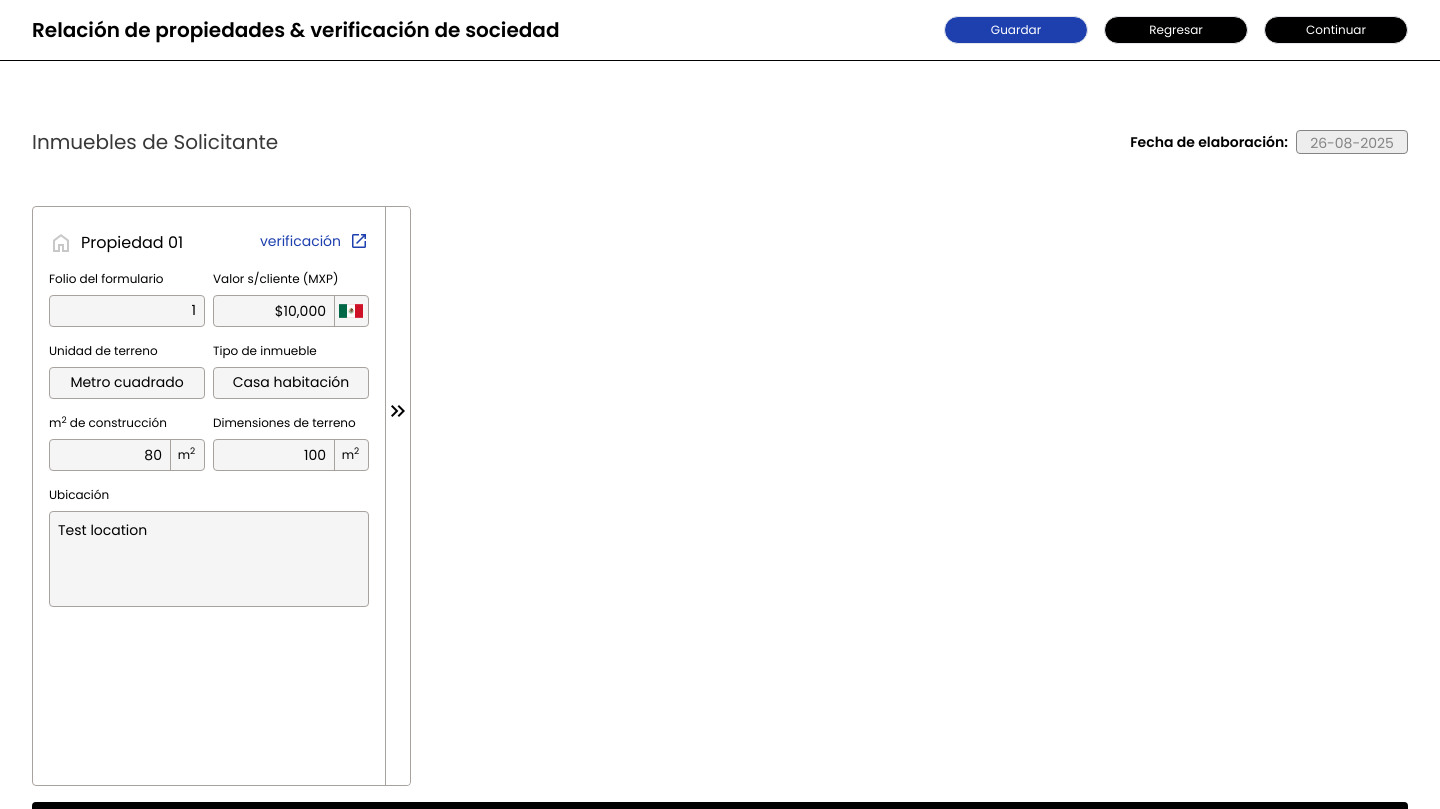
PropertyVerification › Profile Líder de Contraparte › it should hide the additional fields when clicking the shrink button
Click the 3rd icon "keyboard_double_arrow_right". click: [398, 411]
box: [386,399,410,423]
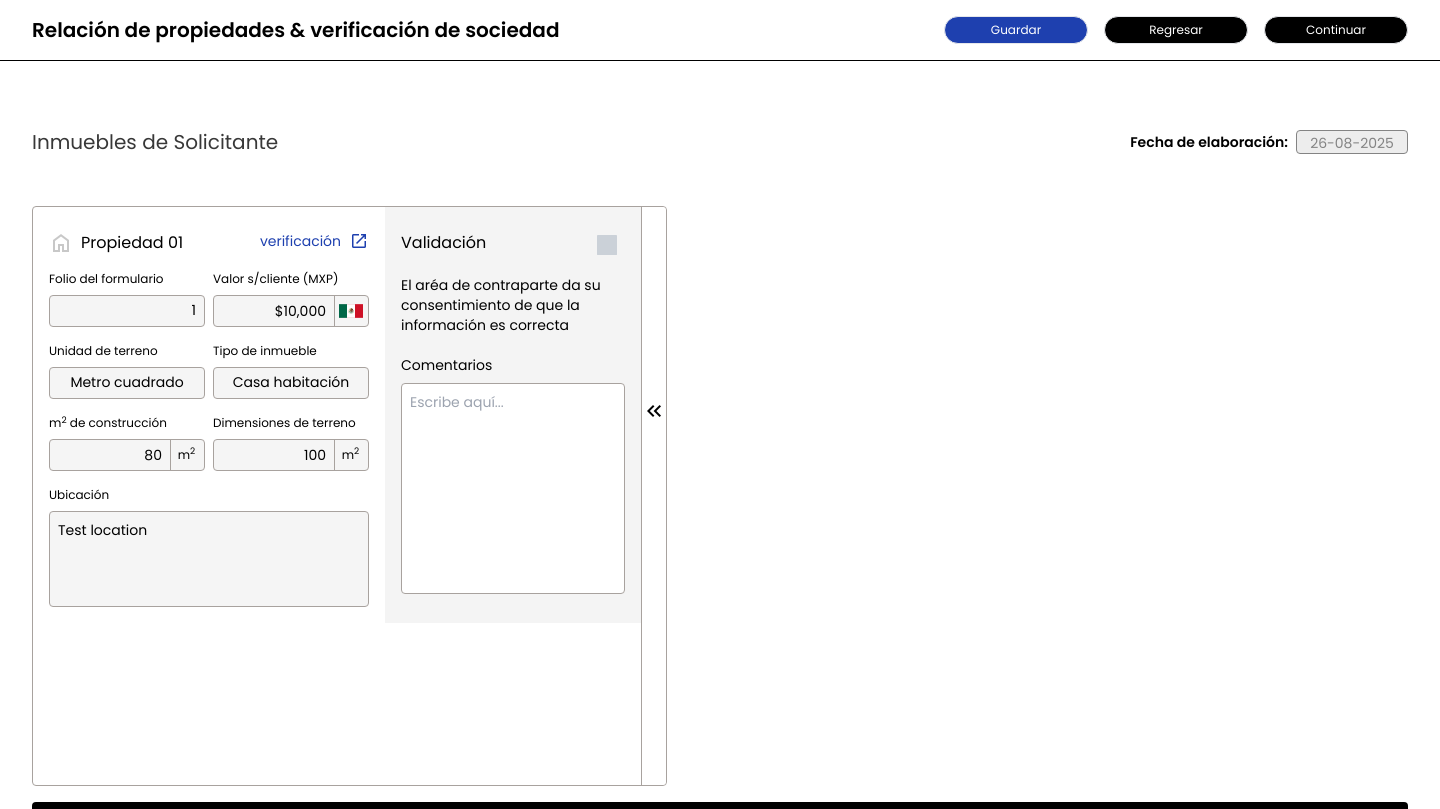
Click the 3rd icon "keyboard_double_arrow_left". click: [654, 411]
box: [642,399,666,423]
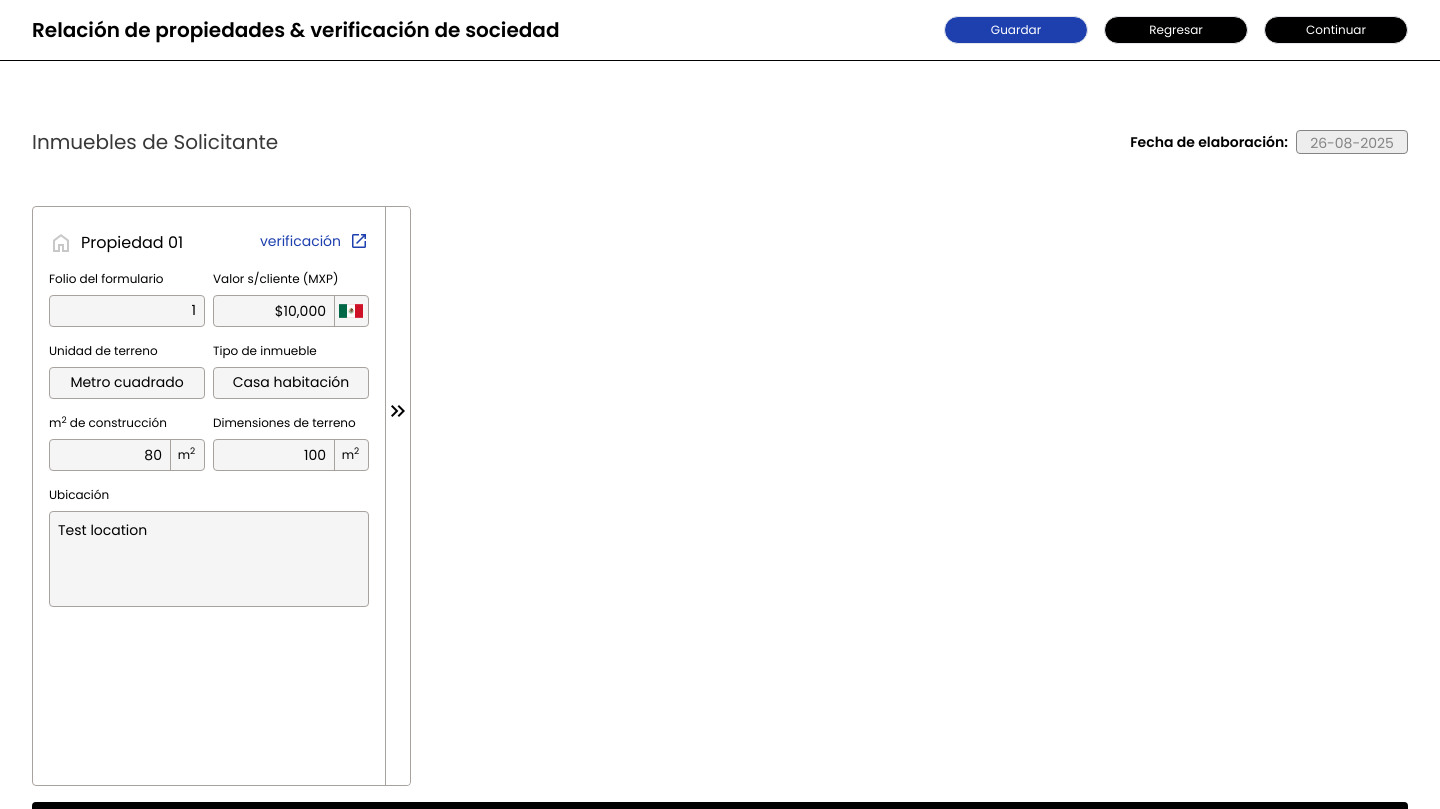
Now the label labelled "Comentarios" is gone
